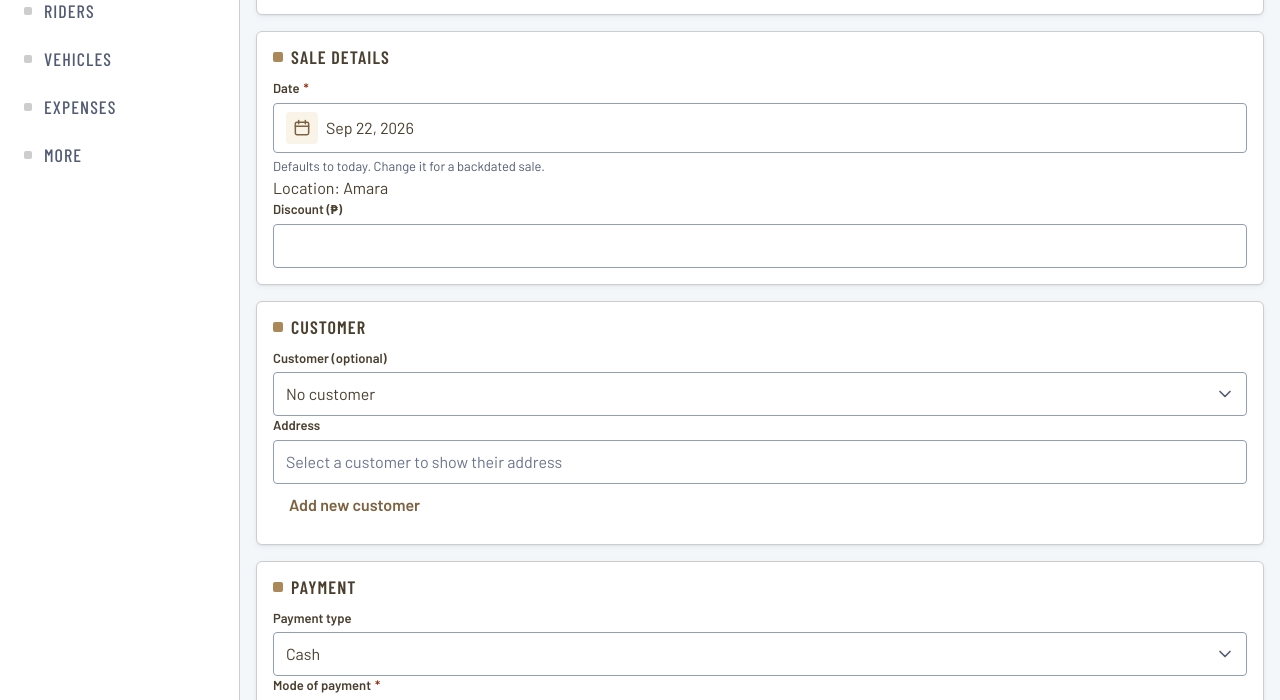
Scenario: SaleCartPage › auto-shows the address of an existing selected customer
The image size is (1280, 700).
(page scrolled)
Select "Maria Santos" in the dropdown labelled "Customer (optional)" at (760, 394), box [273, 372, 1247, 416]
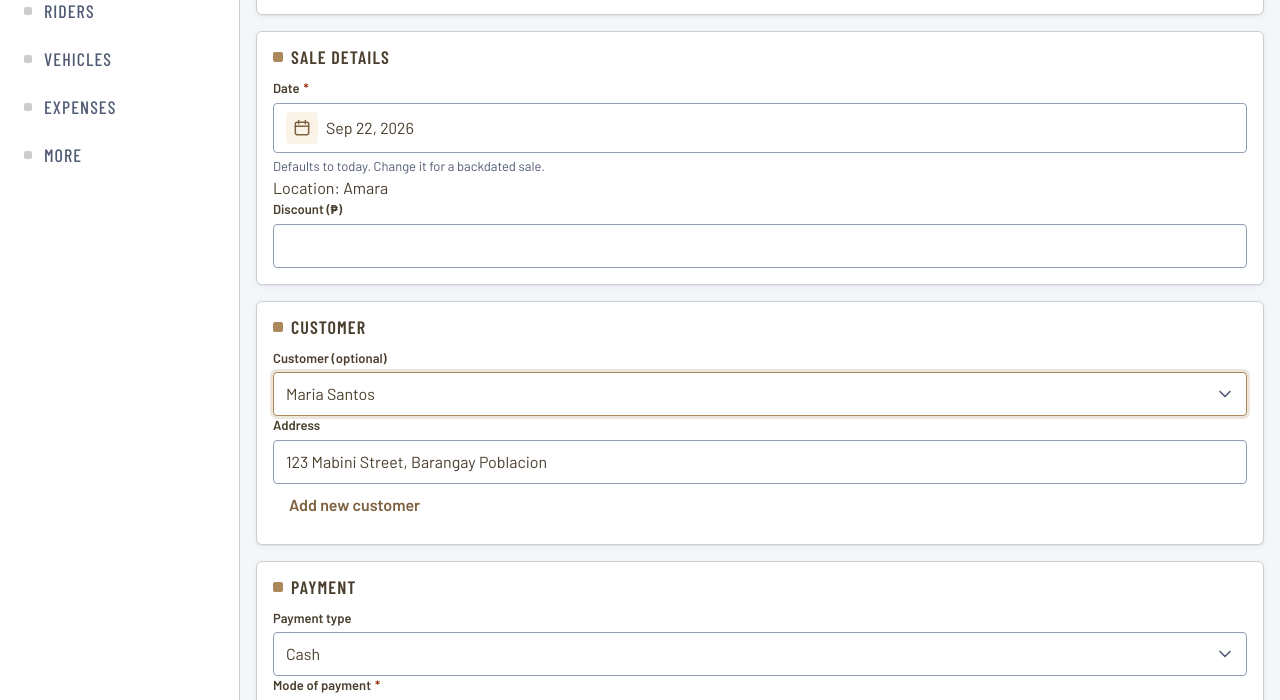
Check: the field labelled "Address" holds "123 Mabini Street, Barangay Poblacion", box [273, 440, 1247, 484]
